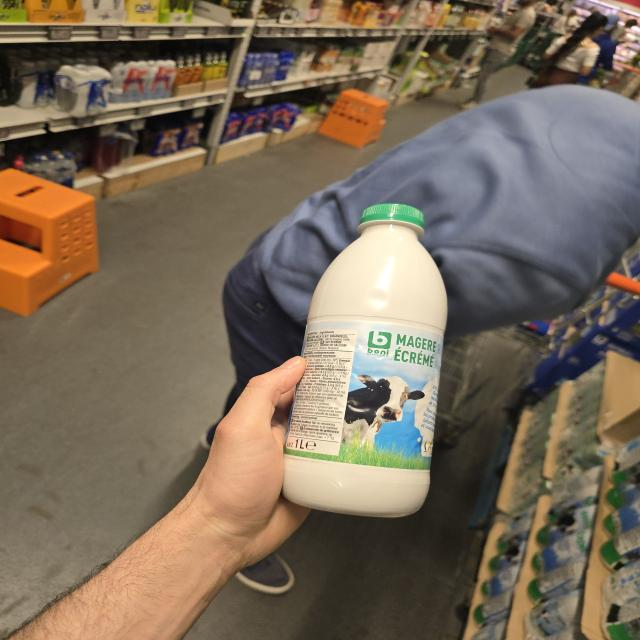Milk: (282, 204, 447, 517)
